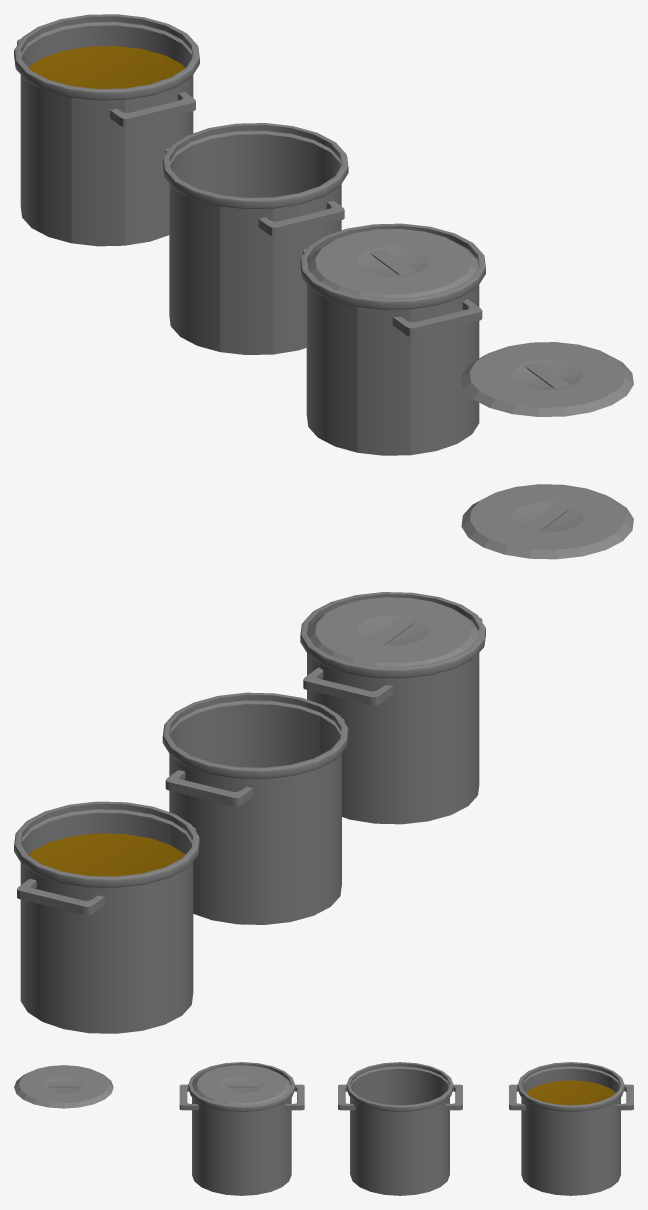
The model's file is Nabe.fbx.
3 renders of one model, top to bottom at view 1: azimuth 30°, elevation 25°; view 2: azimuth 150°, elevation 25°; view 3: azimuth 270°, elevation 25°, orthographic. The views are drawn at different scales.
Visible parts, largest first — view 1: pCylinder3 (×2), pCylinder2, pCylinder4, Soop:Soop, pCube6 (×2), pCube4; view 2: pCylinder3 (×2), pCylinder2, pCylinder4, Soop:Soop, pCube5 (×2), pCube1; view 3: pCylinder3 (×2), pCylinder2, pCylinder4, Soop:Soop, pCube6 (×2), pCube5 (×2), pCube1, pCube4, pCube7, pCube3.
Boxes of the visible parts, <box> form: pCylinder3 (×2): <box>14,14,348,354</box>; pCylinder2: <box>300,223,485,455</box>; pCylinder4: <box>461,342,633,416</box>; Soop:Soop: <box>28,46,185,88</box>; pCube6 (×2): <box>110,91,344,236</box>; pCube4: <box>392,299,482,336</box>; pCylinder3 (×2): <box>14,692,348,1033</box>; pCylinder2: <box>300,592,485,824</box>; pCylinder4: <box>461,484,633,559</box>; Soop:Soop: <box>28,833,185,876</box>; pCube5 (×2): <box>17,770,253,915</box>; pCube1: <box>303,667,393,705</box>; pCylinder3 (×2): <box>346,1062,624,1195</box>; pCylinder2: <box>188,1062,295,1195</box>; pCylinder4: <box>14,1065,113,1108</box>; Soop:Soop: <box>526,1080,615,1105</box>; pCube6 (×2): <box>338,1084,526,1110</box>; pCube5 (×2): <box>446,1084,633,1110</box>; pCube1: <box>284,1084,304,1110</box>; pCube4: <box>179,1084,198,1110</box>; pCube7: <box>45,1082,82,1087</box>; pCube3: <box>223,1082,260,1087</box>.
Size of the model in its own units: 2.15 by 2 by 12.42.
